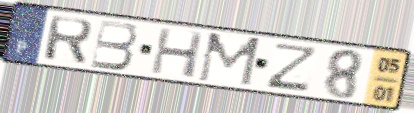8: (321, 48, 366, 100)
B: (89, 18, 140, 72)
H: (148, 26, 207, 80)
M: (195, 31, 264, 88)
R: (42, 14, 96, 67)
Z: (263, 42, 322, 93)
